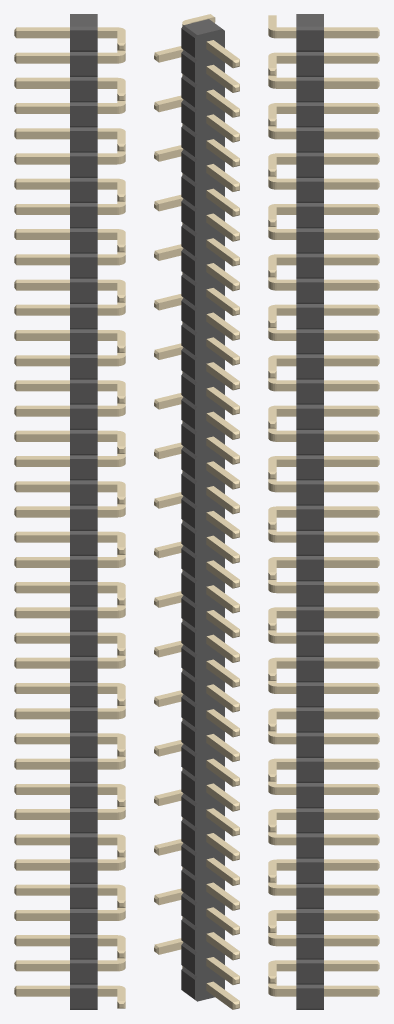
The model's file is PinHeader_1x39_P1.00mm_Vertical_SMD_Pin1Right.glb.
3 views of the same model, side by side, from view 1: azimuth 90°, elevation 25°; view 2: azimuth 210°, elevation 25°; view 3: azimuth 270°, elevation 25° (orthographic).
Parts seen in each view (by area): view 1: Shape_IndexedFaceSet.007, Shape_IndexedFaceSet.013, Shape_IndexedFaceSet.019, Shape_IndexedFaceSet.031, Shape_IndexedFaceSet.037, Shape_IndexedFaceSet.043, Shape_IndexedFaceSet.049, Shape_IndexedFaceSet.055, Shape_IndexedFaceSet.061, Shape_IndexedFaceSet.067, Shape_IndexedFaceSet.073, Shape_IndexedFaceSet.085 (+67 smaller); view 2: Shape_IndexedFaceSet.004, Shape_IndexedFaceSet.001, Shape_IndexedFaceSet.016, Shape_IndexedFaceSet.034, Shape_IndexedFaceSet.040, Shape_IndexedFaceSet.046, Shape_IndexedFaceSet.070, Shape_IndexedFaceSet.100, Shape_IndexedFaceSet.124, Shape_IndexedFaceSet.154, Shape_IndexedFaceSet.190, Shape_IndexedFaceSet.202 (+29 smaller); view 3: Shape_IndexedFaceSet.002, Shape_IndexedFaceSet.010, Shape_IndexedFaceSet.016, Shape_IndexedFaceSet.028, Shape_IndexedFaceSet.034, Shape_IndexedFaceSet.040, Shape_IndexedFaceSet.046, Shape_IndexedFaceSet.052, Shape_IndexedFaceSet.058, Shape_IndexedFaceSet.064, Shape_IndexedFaceSet.070, Shape_IndexedFaceSet.082 (+67 smaller).
Part boxes in pixels (bbox=[...]): Shape_IndexedFaceSet.007: bbox=[70, 30, 97, 50]; Shape_IndexedFaceSet.013: bbox=[70, 55, 97, 75]; Shape_IndexedFaceSet.019: bbox=[70, 80, 97, 100]; Shape_IndexedFaceSet.031: bbox=[70, 131, 97, 151]; Shape_IndexedFaceSet.037: bbox=[70, 156, 97, 176]; Shape_IndexedFaceSet.043: bbox=[70, 181, 97, 201]; Shape_IndexedFaceSet.049: bbox=[70, 206, 97, 226]; Shape_IndexedFaceSet.055: bbox=[70, 232, 97, 252]; Shape_IndexedFaceSet.061: bbox=[70, 257, 97, 277]; Shape_IndexedFaceSet.067: bbox=[70, 282, 97, 302]; Shape_IndexedFaceSet.073: bbox=[70, 307, 97, 327]; Shape_IndexedFaceSet.085: bbox=[70, 358, 97, 378]; Shape_IndexedFaceSet.004: bbox=[195, 29, 224, 1001]; Shape_IndexedFaceSet.001: bbox=[184, 19, 221, 34]; Shape_IndexedFaceSet.016: bbox=[181, 78, 194, 107]; Shape_IndexedFaceSet.034: bbox=[181, 152, 194, 181]; Shape_IndexedFaceSet.040: bbox=[181, 177, 194, 206]; Shape_IndexedFaceSet.046: bbox=[181, 202, 194, 231]; Shape_IndexedFaceSet.070: bbox=[181, 301, 194, 330]; Shape_IndexedFaceSet.100: bbox=[181, 425, 194, 454]; Shape_IndexedFaceSet.124: bbox=[181, 524, 194, 553]; Shape_IndexedFaceSet.154: bbox=[181, 648, 194, 677]; Shape_IndexedFaceSet.190: bbox=[181, 797, 194, 825]; Shape_IndexedFaceSet.202: bbox=[181, 846, 194, 875]; Shape_IndexedFaceSet.002: bbox=[296, 30, 323, 50]; Shape_IndexedFaceSet.010: bbox=[296, 55, 323, 75]; Shape_IndexedFaceSet.016: bbox=[296, 80, 323, 100]; Shape_IndexedFaceSet.028: bbox=[296, 131, 323, 151]; Shape_IndexedFaceSet.034: bbox=[296, 156, 323, 176]; Shape_IndexedFaceSet.040: bbox=[296, 181, 323, 201]; Shape_IndexedFaceSet.046: bbox=[296, 206, 323, 226]; Shape_IndexedFaceSet.052: bbox=[296, 232, 323, 252]; Shape_IndexedFaceSet.058: bbox=[296, 257, 323, 277]; Shape_IndexedFaceSet.064: bbox=[296, 282, 323, 302]; Shape_IndexedFaceSet.070: bbox=[296, 307, 323, 327]; Shape_IndexedFaceSet.082: bbox=[296, 358, 323, 378].
Bounding box in the file's own units: 0.984 × 15.35 × 1.58.
